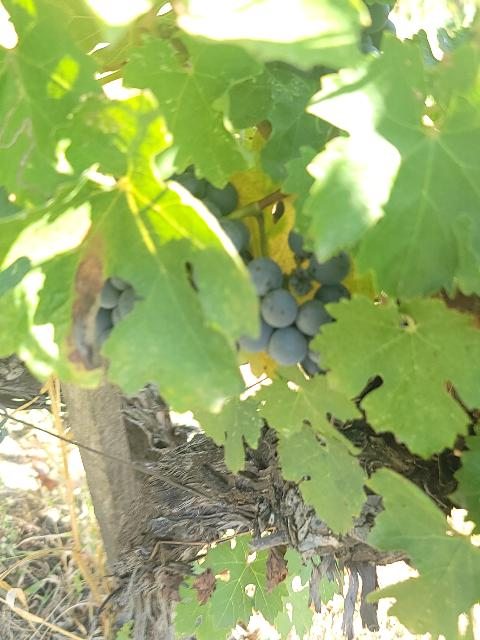grapes: (238, 258, 349, 376), (180, 172, 250, 250)
